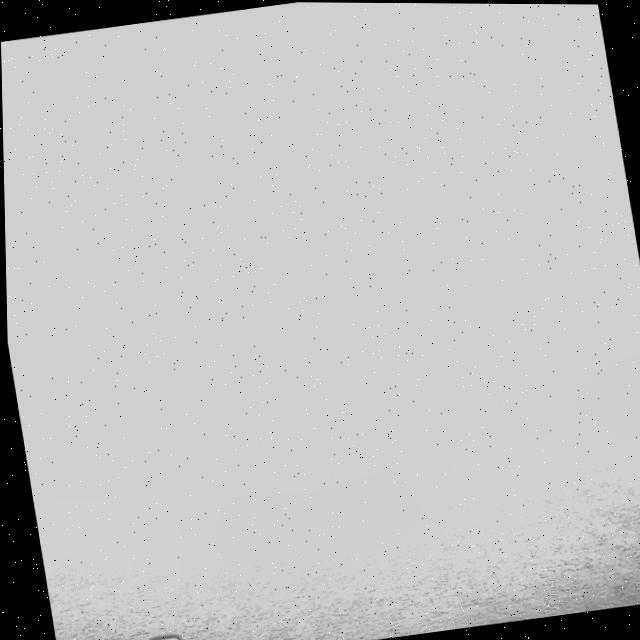Empty: (1, 2, 640, 640)
